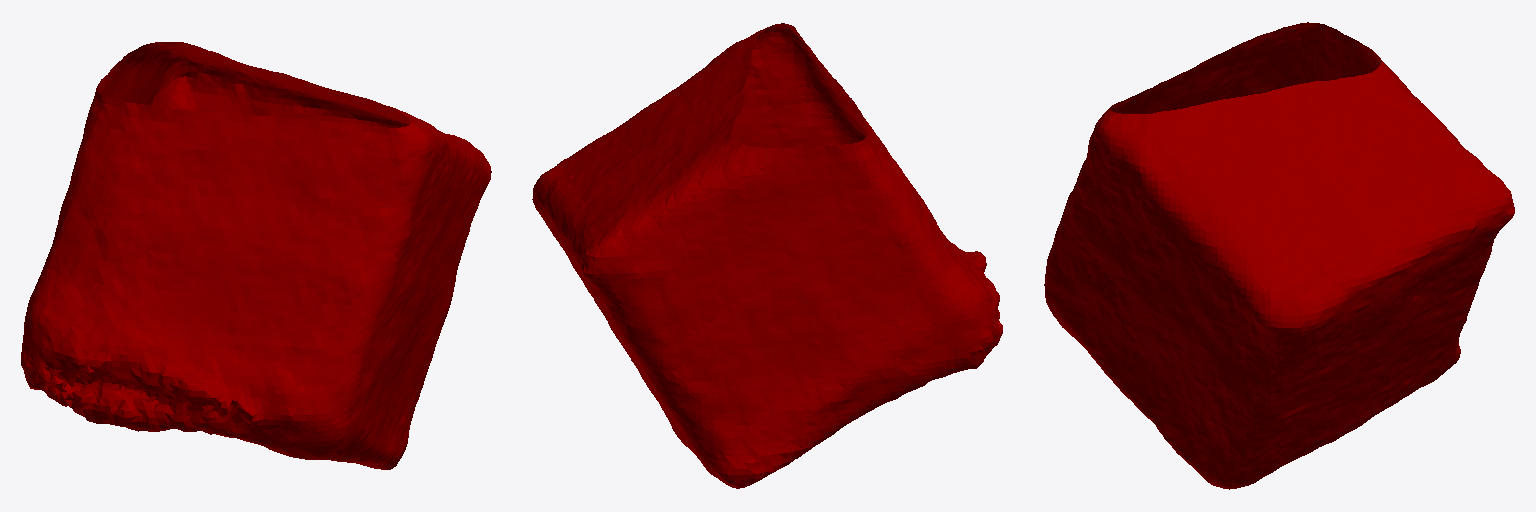
The robot description file, URDF, robot "cube":
<?xml version="1.0"?>
<robot name="cube" xmlns:drake="https://drake.mit.edu/">
    <link name="body">
        <inertial>
            <origin xyz="0 0 0" rpy="0 0 0"/>
            <mass value="0.37" />
            <inertia
                ixx="0.00081"
                ixy="0"
                ixz="0"
                iyy="0.00081"
                iyz="0"
                izz="0.00081"/>
        </inertial>
        <visual>
            <origin xyz="0 0 0" rpy="0 0 0" />
            <geometry>
                <mesh filename="cube_hand_toss.obj"/>
            </geometry>
            <material name="pennred">
                <color rgba="0.6 0 0 1.0" />
            </material>
        </visual>
        <collision>
            <geometry>
                <mesh filename="cube_hand_toss.obj"/>
            </geometry>
            <origin xyz="0 0 0" rpy="0 0 0" />
            <drake:proximity_properties>
                <drake:mu_static value="0.15" />
            </drake:proximity_properties>
        </collision>
    </link>
</robot>

--- Render facts (derived) ---
Views: 3 orthographic renders of the robot side by side, from view 1: azimuth 30°, elevation 25°; view 2: azimuth 150°, elevation 25°; view 3: azimuth 270°, elevation 25°.
Robot: cube — 1 links, 0 joints (none); root link body; default pose: every joint at zero.
Links seen in each view (by area): view 1: body; view 2: body; view 3: body.
Link boxes in pixels (bbox=[...]): body: bbox=[21, 42, 491, 469]; body: bbox=[532, 23, 1002, 488]; body: bbox=[1044, 22, 1514, 489].
Bounding box of the posed robot: 1.31 × 1.22 × 1.03 m (x, y, z).
1 mesh visuals loaded from 1 distinct referenced files (1 OBJ).
